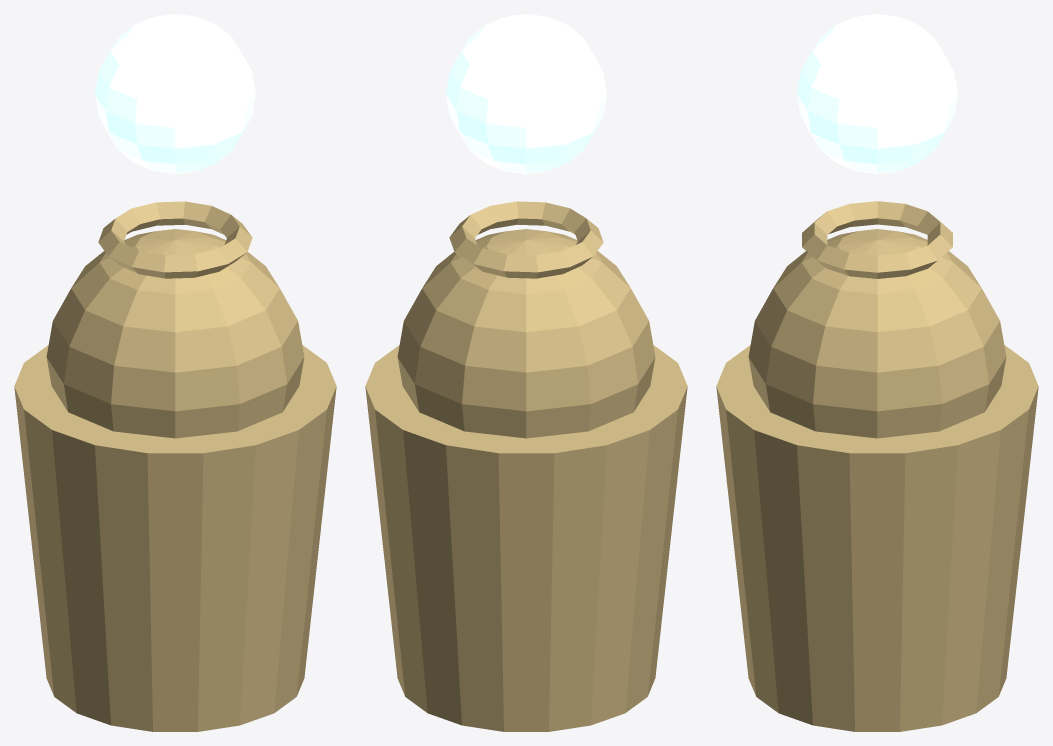
Rendered from TuningBell_Low.fbx.
3 renders of one model, left to right at view 1: azimuth 30°, elevation 25°; view 2: azimuth 150°, elevation 25°; view 3: azimuth 270°, elevation 25°, orthographic.
Parts seen in each view (by area): view 1: TuningBell_Low; view 2: TuningBell_Low; view 3: TuningBell_Low.
Boxes of the visible parts, left/top/right/bottom form: TuningBell_Low: left=14, top=14, right=336, bottom=731; TuningBell_Low: left=365, top=14, right=687, bottom=731; TuningBell_Low: left=716, top=14, right=1038, bottom=731.
Bounding box in the file's own units: 25.6 × 58.5 × 26.
